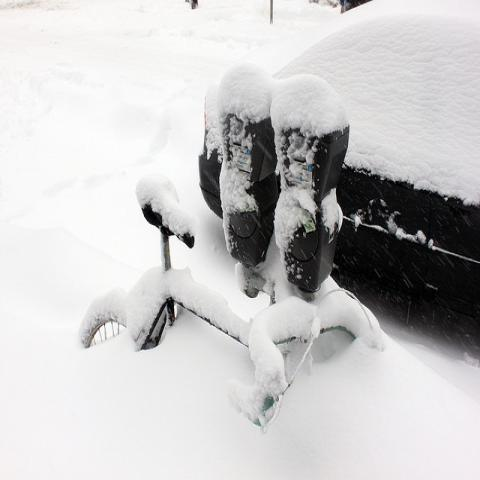car: (199, 95, 479, 343)
